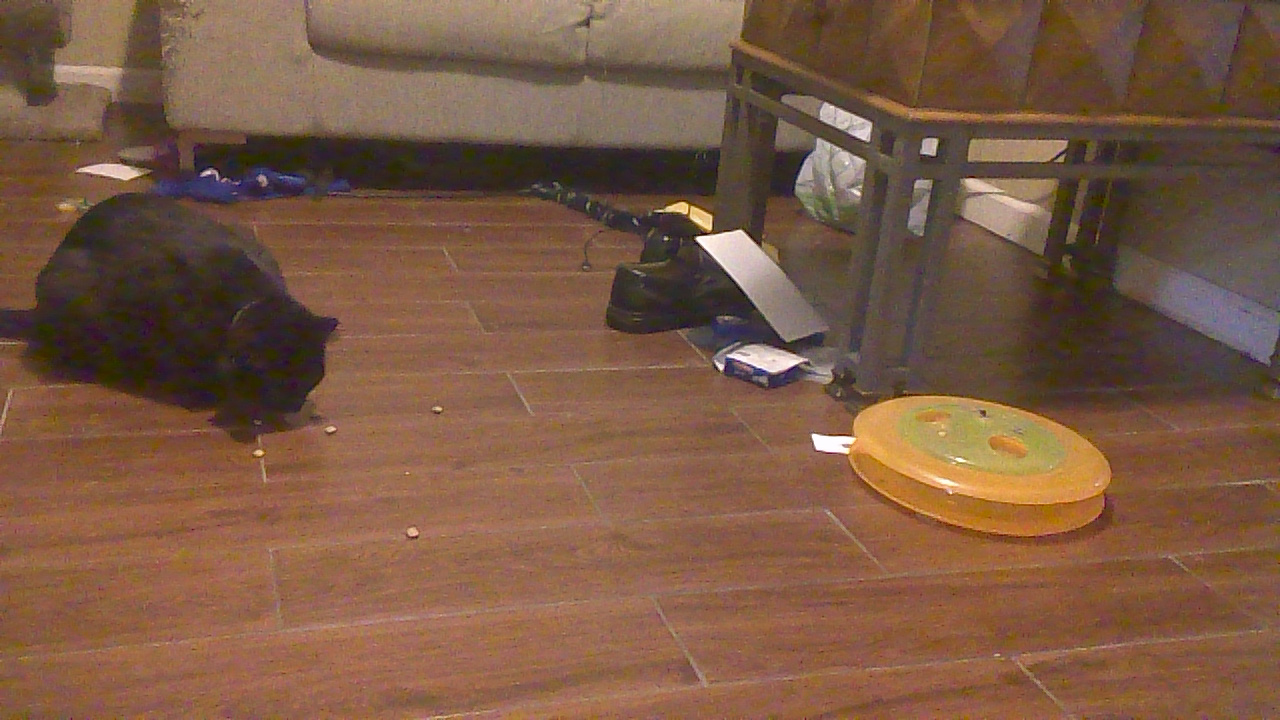cat: (1, 196, 354, 452)
